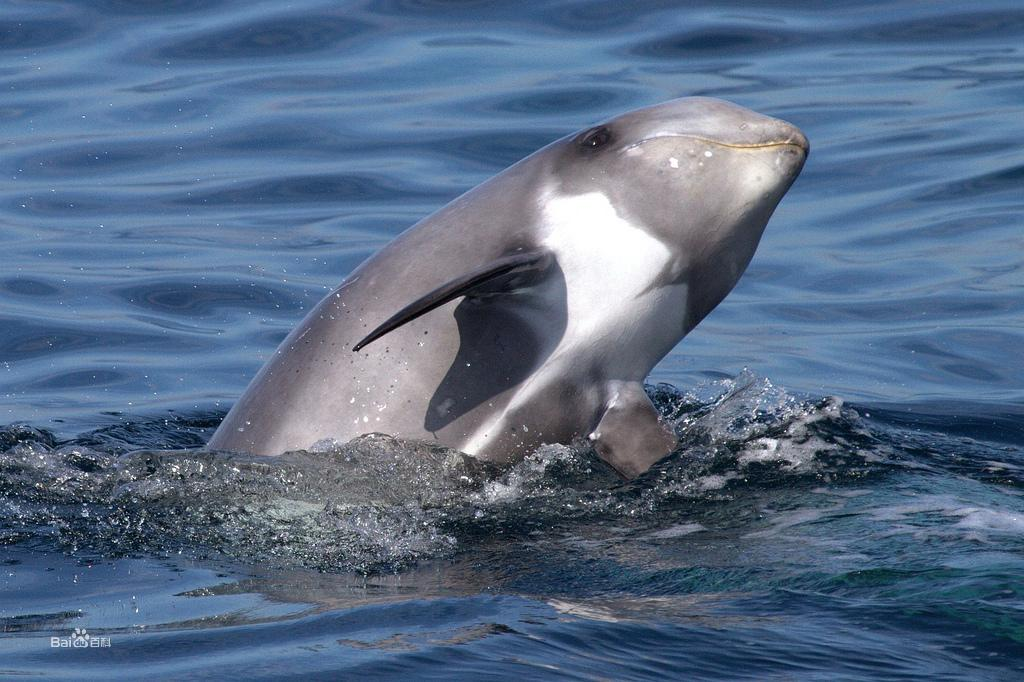fish: (190, 95, 819, 491)
